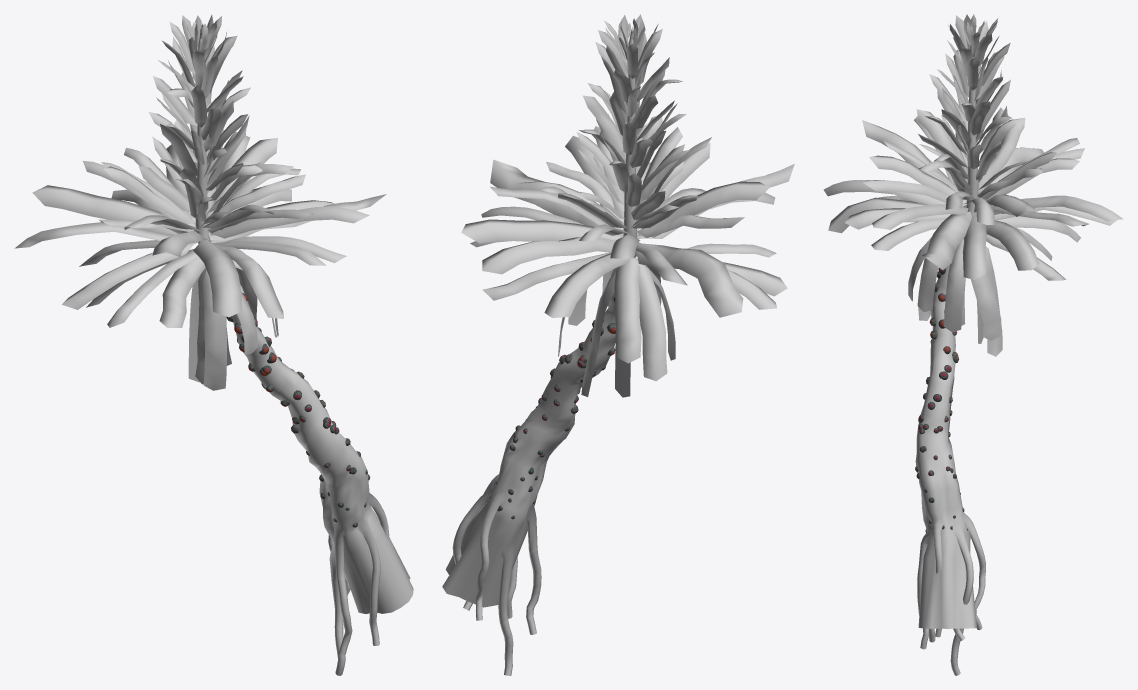
The model's file is Plant15C.fbx.
3 renders of one model, left to right at view 1: azimuth 30°, elevation 25°; view 2: azimuth 150°, elevation 25°; view 3: azimuth 270°, elevation 25°, orthographic. The views are drawn at different scales.
Visible parts, largest first — view 1: polySurface1980; view 2: polySurface1980; view 3: polySurface1980.
Part boxes in pixels (x1,y1,x2,y2): polySurface1980: (14,14,413,675); polySurface1980: (442,14,794,675); polySurface1980: (823,14,1122,675).
Bounding box in the file's own units: 392 × 744 × 336.
